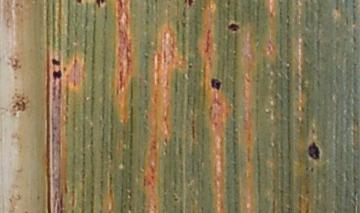tarspot: (308, 140, 321, 161), (209, 77, 222, 92), (51, 68, 63, 80), (227, 22, 241, 32), (51, 56, 61, 67), (308, 165, 316, 174), (95, 1, 105, 7), (183, 1, 195, 6), (173, 196, 179, 202), (187, 64, 193, 69), (75, 1, 83, 4)
